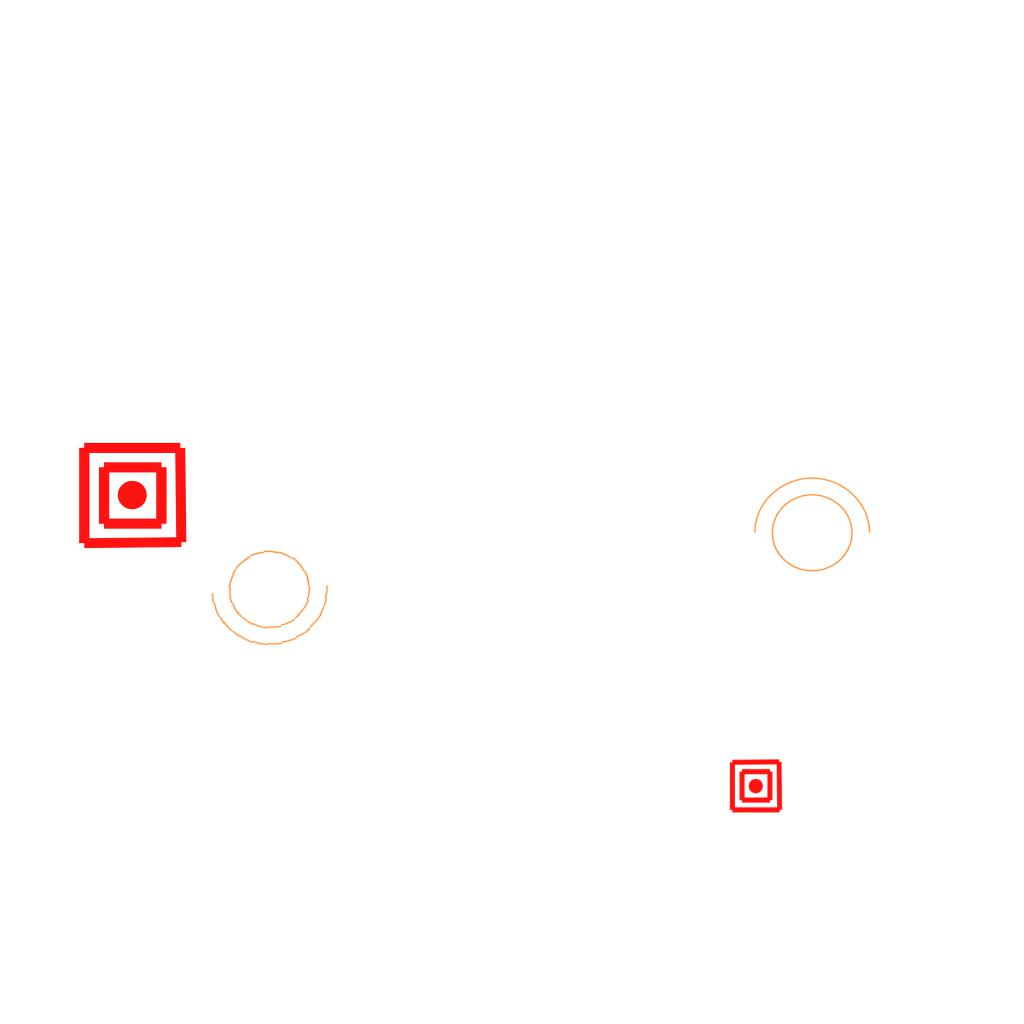NAM-Nichtautomatischer_Melder: (76, 439, 189, 552), (728, 758, 784, 814)
Scheinwerfer_fuer_Alarmbeleuchtung: (203, 533, 343, 655), (743, 472, 875, 584)
